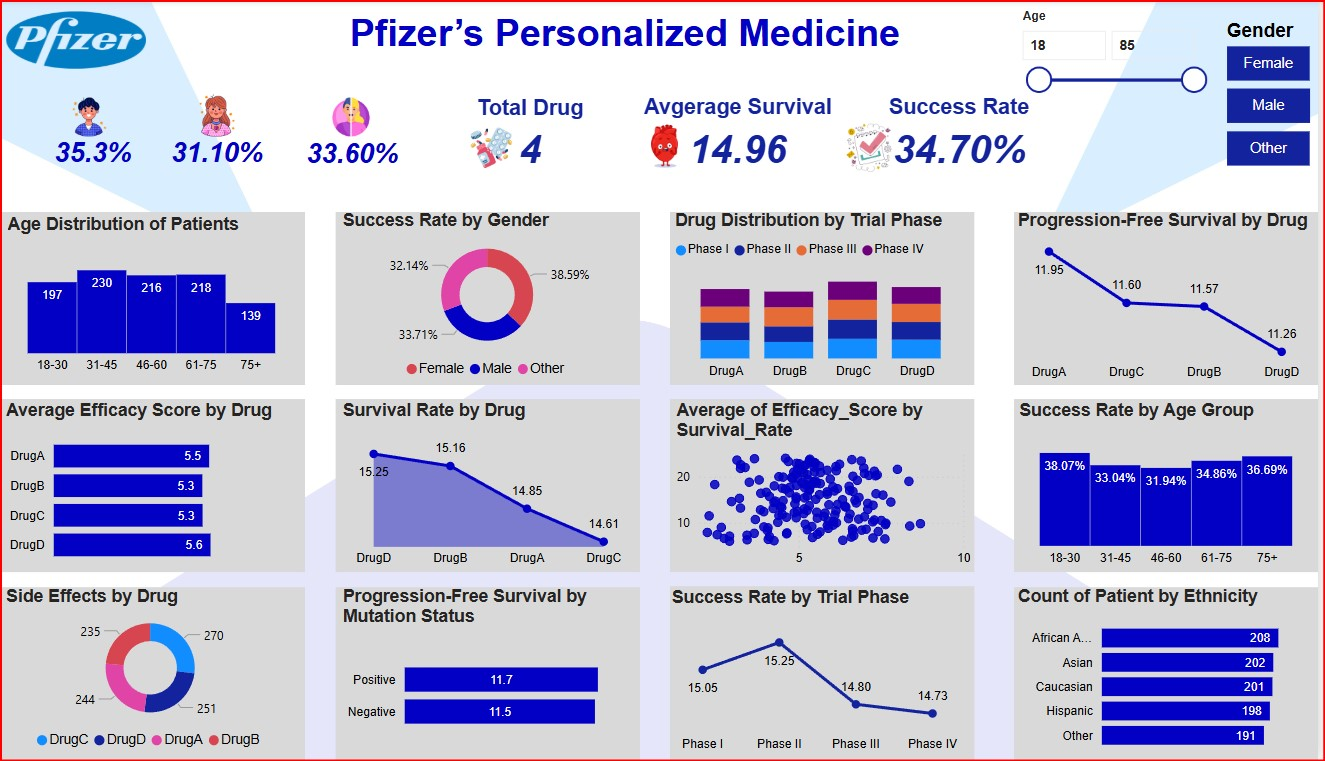

What the dashboard file says about the page in this screenshot:
{"tool":"powerbi","page":{"name":"Dashboard","canvas":[1300,750],"ordinal":0},"visuals":[{"type":"image","box":[0,5.7,148.4,67],"z":0,"group":"g2"},{"type":"card","title":"Total Drug","fields":{"Values":["Count(in.Drug_Name)"]},"box":[452.9,93.7,140.4,79.4],"z":0,"group":"g4"},{"type":"card","fields":{"Values":["in.male_ratio"]},"box":[40.1,129.5,102.1,43.6],"z":0,"group":"g1"},{"type":"columnChart","title":" Drug Distribution by Trial Phase","fields":{"Category":["in.Drug_Name"],"Series":["in.Trial_Phase"],"Y":["CountNonNull(in.Patient_ID)"]},"box":[660.5,207.4,299.9,173.9],"z":0},{"type":"textbox","box":[314.3,5.7,603.1,54.2],"z":1000,"group":"g2"},{"type":"card","title":"Avgerage Survival","fields":{"Values":["Avg(in.Survival_Rate)"]},"box":[627.5,92,201,81.4],"z":1000,"group":"g4"},{"type":"card","fields":{"Values":["in.other_ratio"]},"box":[289,130.8,116.5,42.3],"z":1000,"group":"g1"},{"type":"barChart","title":"Average Efficacy Score by Drug","fields":{"Category":["in.Drug_Name"],"Y":["Avg(in.Efficacy_Score)"]},"box":[0,394.1,295.2,172.3],"z":1000},{"type":"card","title":"Success Rate","fields":{"Values":["Avg(in.Success_Indicator)"]},"box":[865.2,92,161.1,81.4],"z":2000,"group":"g4"},{"type":"card","fields":{"Values":["in.female_ratio"]},"box":[155,129.5,116.5,43.6],"z":2000,"group":"g1"},{"type":"donutChart","title":"Side Effects by Drug","fields":{"Category":["in.Drug_Name"],"Y":["CountNonNull(in.Side_Effects)"]},"box":[0,578.2,294.4,171.5],"z":2000},{"type":"image","box":[57.6,91.1,59,48.9],"z":3000,"group":"g1"},{"type":"areaChart","title":" Survival Rate by Drug","fields":{"Category":["in.Drug_Name"],"Y":["Avg(in.Survival_Rate)"]},"box":[331.8,394.1,298.3,172.3],"z":3000},{"type":"image","box":[182.1,88.5,62.2,51.5],"z":4000,"group":"g1"},{"type":"donutChart","title":" Success Rate by Gender","fields":{"Category":["in.Gender"],"Y":["Avg(in.Success_Indicator)"]},"box":[331.8,207.4,295.2,175.5],"z":4000},{"type":"image","box":[312.9,91.1,65.4,48.9],"z":5000,"group":"g1"},{"type":"lineChart","title":" Progression-Free Survival by Drug","fields":{"Category":["in.Drug_Name"],"Y":["Avg(in.Progression_Free_Survival)"]},"box":[998.5,207.4,301.5,175.5],"z":5000},{"type":"columnChart","title":" Success Rate by Age Group","fields":{"Category":["in.Range"],"Y":["Avg(in.Success_Indicator)"]},"box":[1000.3,394.1,299.9,172.3],"z":6000},{"type":"columnChart","title":"Age Distribution of Patients","fields":{"Category":["in.Range"],"Y":["CountNonNull(in.Patient_ID)"]},"box":[1.6,210.6,293.5,165.9],"z":7000},{"type":"clusteredBarChart","title":"Progression-Free Survival by Mutation Status","fields":{"Category":["in.Mutation_Status"],"Y":["Avg(in.Progression_Free_Survival)"]},"box":[331.8,577.5,295.2,170.7],"z":8000},{"type":"lineChart","title":" Success Rate by Trial Phase","fields":{"Y":["Avg(in.Survival_Rate)"],"Category":["in.Trial_Phase"]},"box":[657.3,579.1,299.9,170.7],"z":9000},{"type":"group","id":"g1","title":"Group 1","box":[40.1,88.5,365.4,84.6],"z":10000},{"type":"image","box":[459.3,115.7,51,57.4],"z":11000,"group":"g4"},{"type":"clusteredBarChart","title":"Count of Patient by Ethnicity","fields":{"Category":["in.Ethnicity"],"Y":["CountNonNull(in.Patient_ID)"]},"box":[998.5,577.7,301.5,172.3],"z":11000},{"type":"group","id":"g2","title":"Group 2","box":[0,5.7,917.4,67],"z":13000},{"type":"scatterChart","fields":{"X":["Avg(in.Efficacy_Score)"],"Y":["in.Survival_Rate"]},"box":[661,394,300,172],"z":14000},{"type":"group","id":"g3","title":"Group 4","box":[995.6,8.6,301.5,161.1],"z":15000},{"type":"advancedSlicerVisual","fields":{"Values":["in.Gender"]},"box":[1204.6,19.8,92.5,150],"z":15000,"group":"g3"},{"type":"image","box":[625.9,114.3,59,57.4],"z":15001,"group":"g4"},{"type":"image","box":[828.5,115.9,59,57.4],"z":15002,"group":"g4"},{"type":"group","id":"g4","title":"Group 3","box":[452.9,92,573.4,81.4],"z":15003},{"type":"slicer","fields":{"Values":["in.Age"]},"box":[995.6,8.6,202.6,87.7],"z":17004,"group":"g3"}]}

Visuals, with their boxes in screenshot pixels (x1, y1, x2, y2), scaled from the page's 1300x750 canvas onto the 1325x761 screenshot:
image: 0 6 151 74
"Total Drug" card: 462 95 605 176
card - in.male_ratio: 41 131 145 176
" Drug Distribution by Trial Phase" columnChart: 673 210 979 387
textbox: 320 6 935 61
"Avgerage Survival" card: 640 93 844 176
card - in.other_ratio: 295 133 413 176
"Average Efficacy Score by Drug" barChart: 0 400 301 575
"Success Rate" card: 882 93 1046 176
card - in.female_ratio: 158 131 277 176
"Side Effects by Drug" donutChart: 0 587 300 760
image: 59 92 119 142
" Survival Rate by Drug" areaChart: 338 400 642 575
image: 186 90 249 142
" Success Rate by Gender" donutChart: 338 210 639 389
image: 319 92 386 142
" Progression-Free Survival by Drug" lineChart: 1018 210 1324 389
" Success Rate by Age Group" columnChart: 1020 400 1324 575
"Age Distribution of Patients" columnChart: 2 214 301 382
"Progression-Free Survival by Mutation Status" clusteredBarChart: 338 586 639 759
" Success Rate by Trial Phase" lineChart: 670 588 976 760
"Group 1" group: 41 90 413 176
image: 468 117 520 176
"Count of Patient by Ethnicity" clusteredBarChart: 1018 586 1324 760
"Group 2" group: 0 6 935 74
scatterChart - Avg(in.Efficacy_Score) x in.Survival_Rate: 674 400 979 574
"Group 4" group: 1015 9 1322 172
advancedSlicerVisual - in.Gender: 1228 20 1322 172
image: 638 116 698 174
image: 844 118 905 176
"Group 3" group: 462 93 1046 176
slicer - in.Age: 1015 9 1221 98
